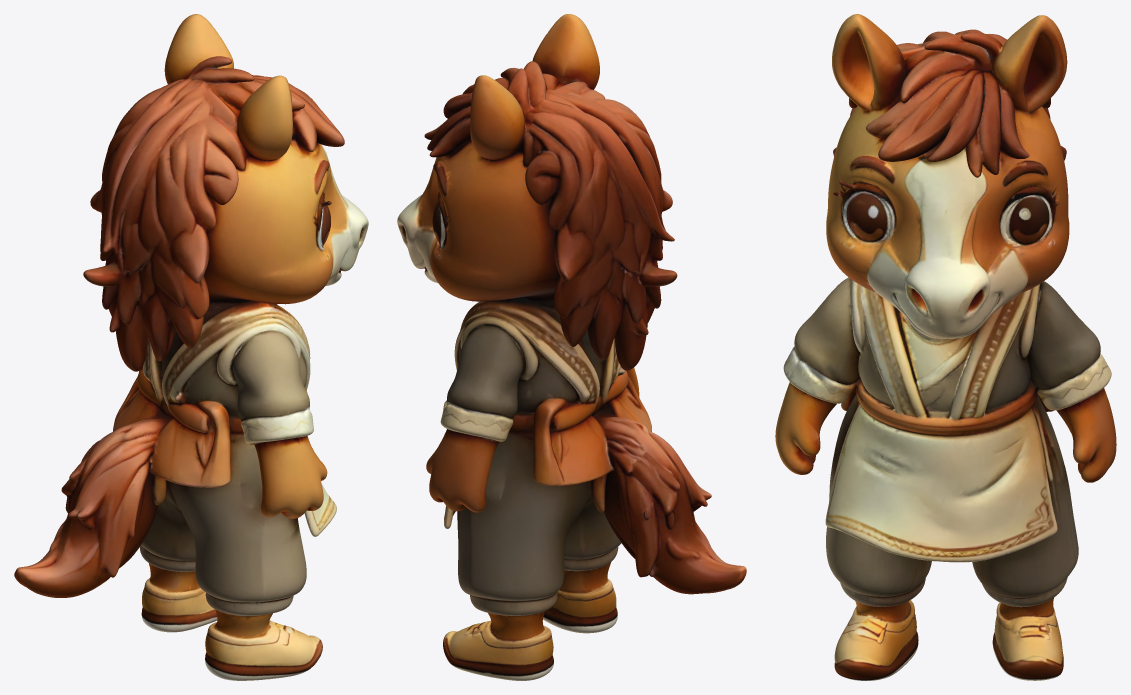
Rendered from role-3.glb.
The picture shows the model from 3 angles, left to right: view 1: azimuth 30°, elevation 25°; view 2: azimuth 150°, elevation 25°; view 3: azimuth 270°, elevation 25°; orthographic projection. The views are drawn at different scales.
Visible parts, largest first — view 1: tripo_node_ea62df79-6be5-4385-b691-075bd370c98d; view 2: tripo_node_ea62df79-6be5-4385-b691-075bd370c98d; view 3: tripo_node_ea62df79-6be5-4385-b691-075bd370c98d.
Boxes of the visible parts, left/top/right/bottom form: tripo_node_ea62df79-6be5-4385-b691-075bd370c98d: left=14, top=14, right=368, bottom=680; tripo_node_ea62df79-6be5-4385-b691-075bd370c98d: left=397, top=14, right=746, bottom=680; tripo_node_ea62df79-6be5-4385-b691-075bd370c98d: left=775, top=14, right=1116, bottom=680.
Size of the model in its own units: 0.6043 by 0.9999 by 0.4739.
Materials: 1 (1 with a texture image).
